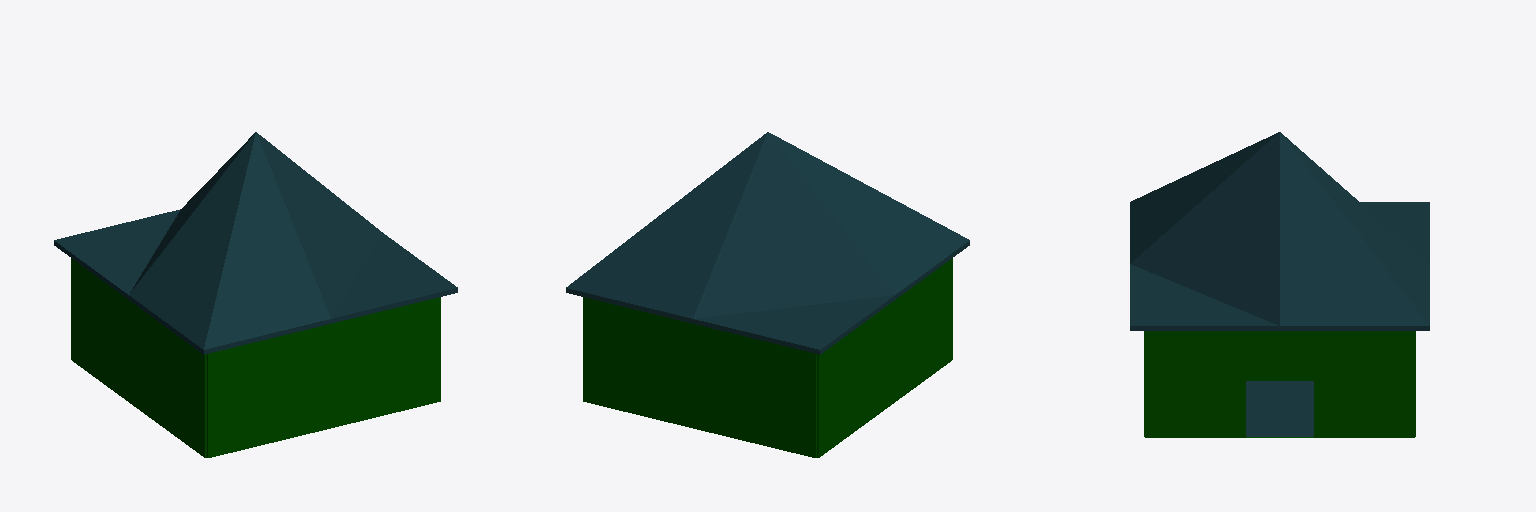
File: house.obj
3 renders of one model, left to right at view 1: azimuth 30°, elevation 25°; view 2: azimuth 150°, elevation 25°; view 3: azimuth 270°, elevation 25°, orthographic.
Parts seen in each view (by area): view 1: Cube.004; view 2: Cube.004; view 3: Cube.004.
Boxes of the visible parts, box(x1,y1,x2,y2) form: Cube.004: box(54, 132, 457, 457); Cube.004: box(566, 132, 969, 457); Cube.004: box(1130, 132, 1429, 437).
Size of the model in its own units: 32.78 by 30.58 by 33.44.